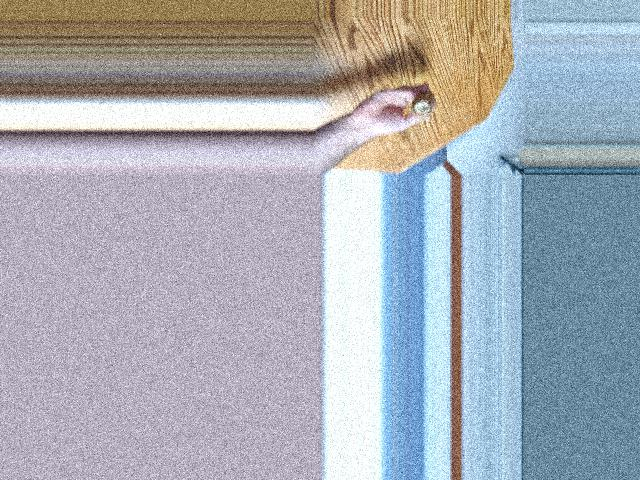sweet_potato: (412, 97, 440, 120)
